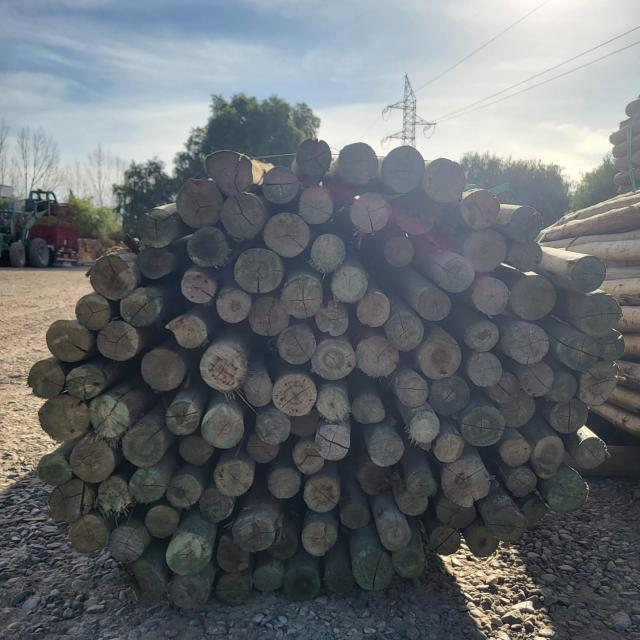package: (31, 143, 624, 608)
